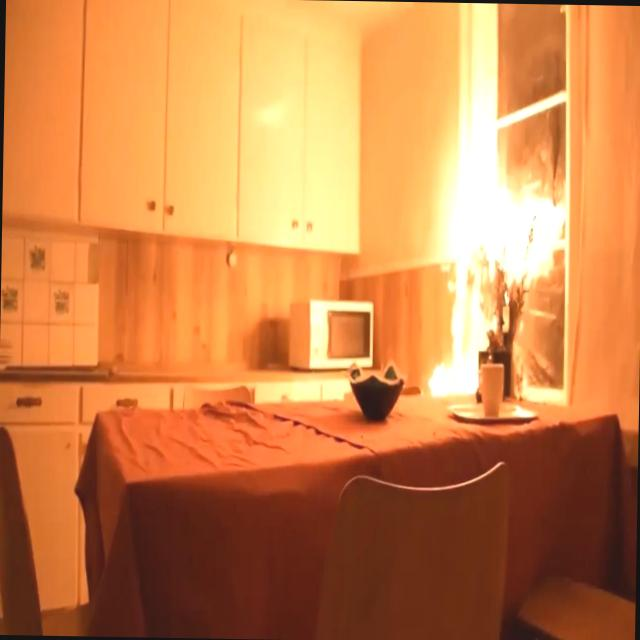fire: (420, 130, 570, 405)
